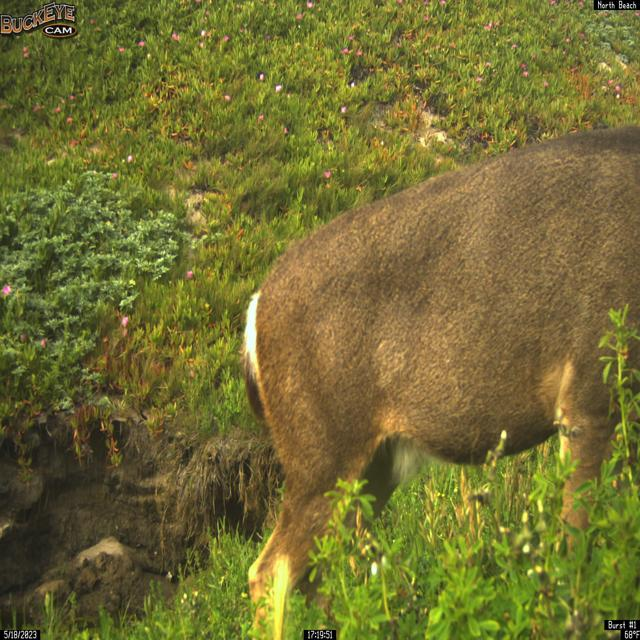deer: (240, 123, 640, 639)
